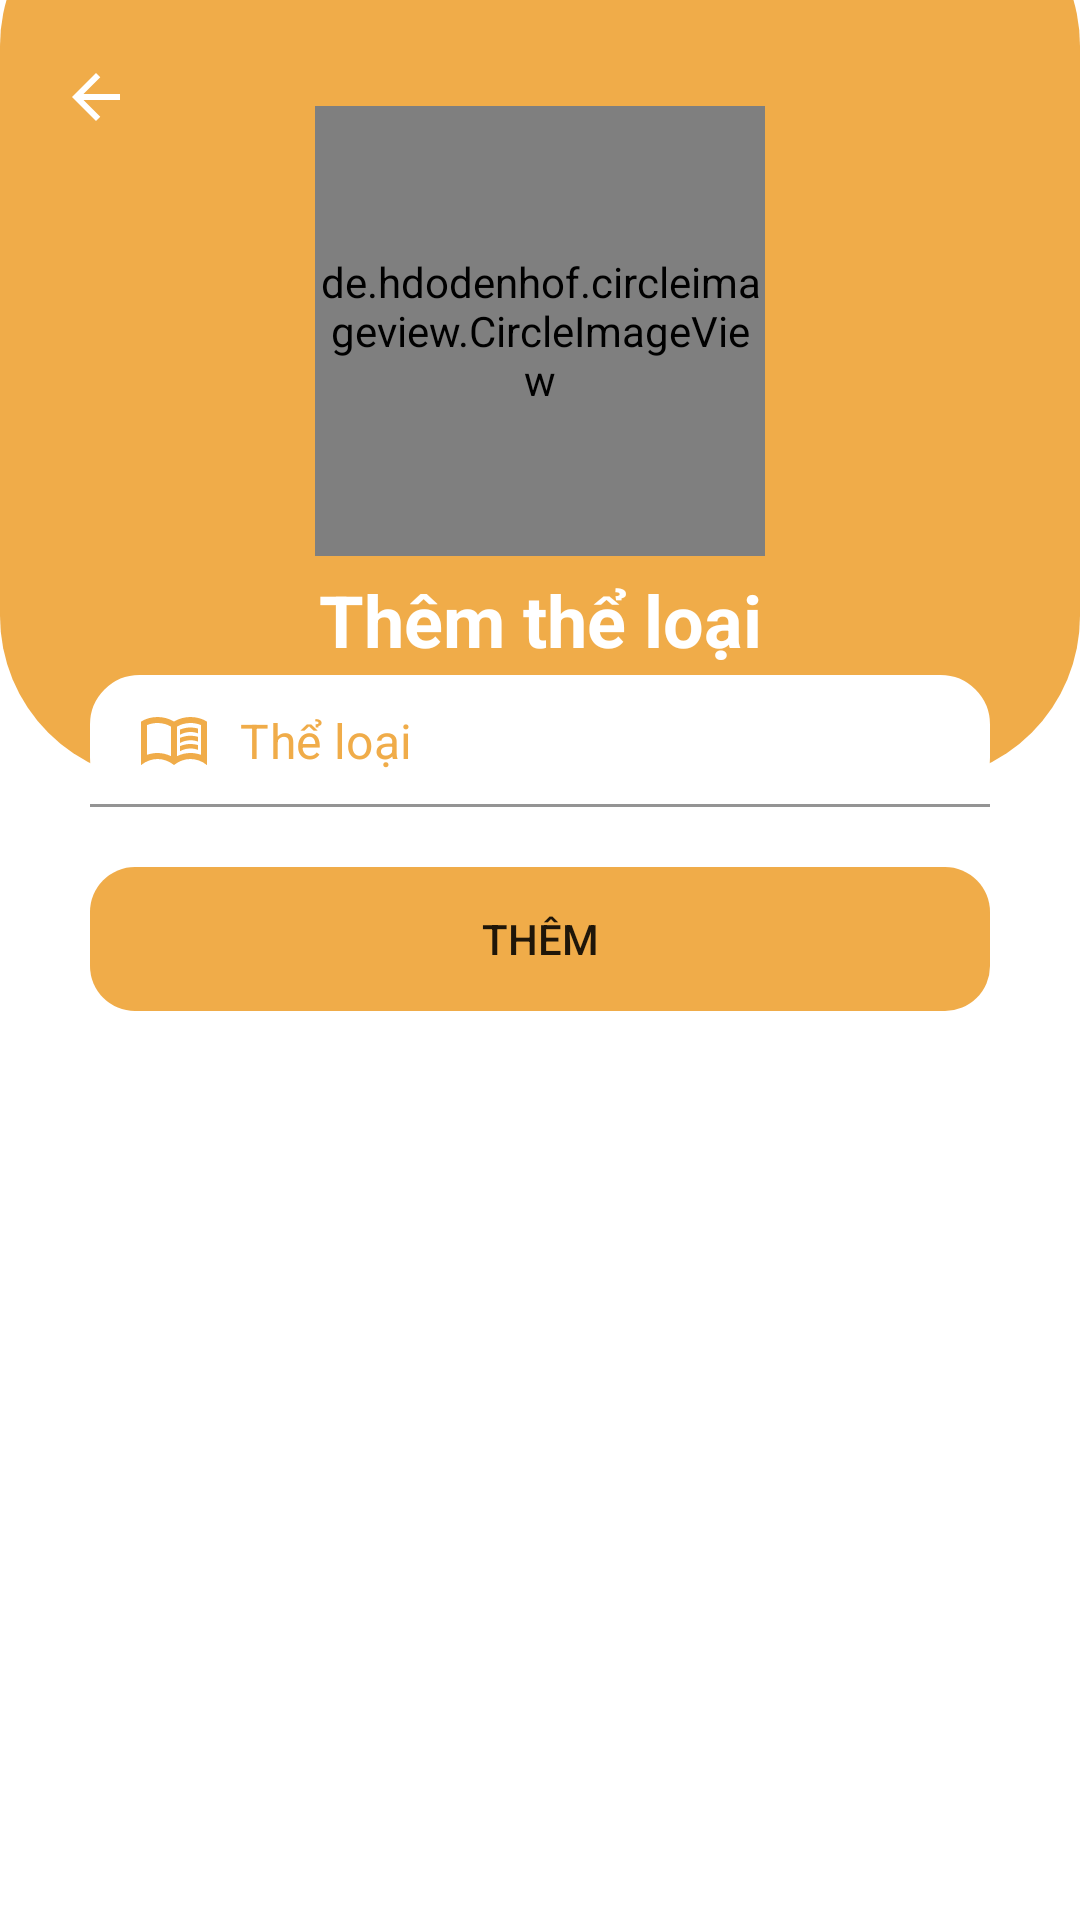

Named icons in this screenshot (1080w x 1920h) and their bounding boxes, (x1, y1, x2, y2):
back: (72, 73, 120, 121)
